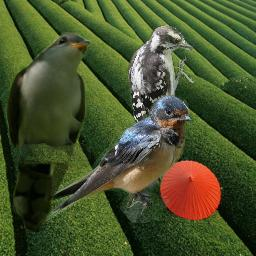Cuckoo: (5, 32, 91, 232)
Swallow: (34, 95, 194, 229)
Woodpecker: (128, 25, 195, 156)
